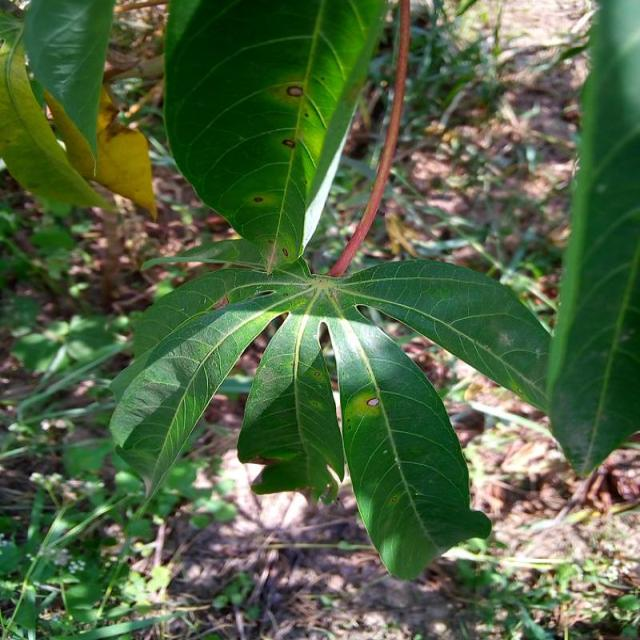cassava leaf: (162, 0, 388, 271), (545, 0, 639, 478), (324, 315, 491, 580), (236, 310, 345, 503), (22, 0, 115, 176)
